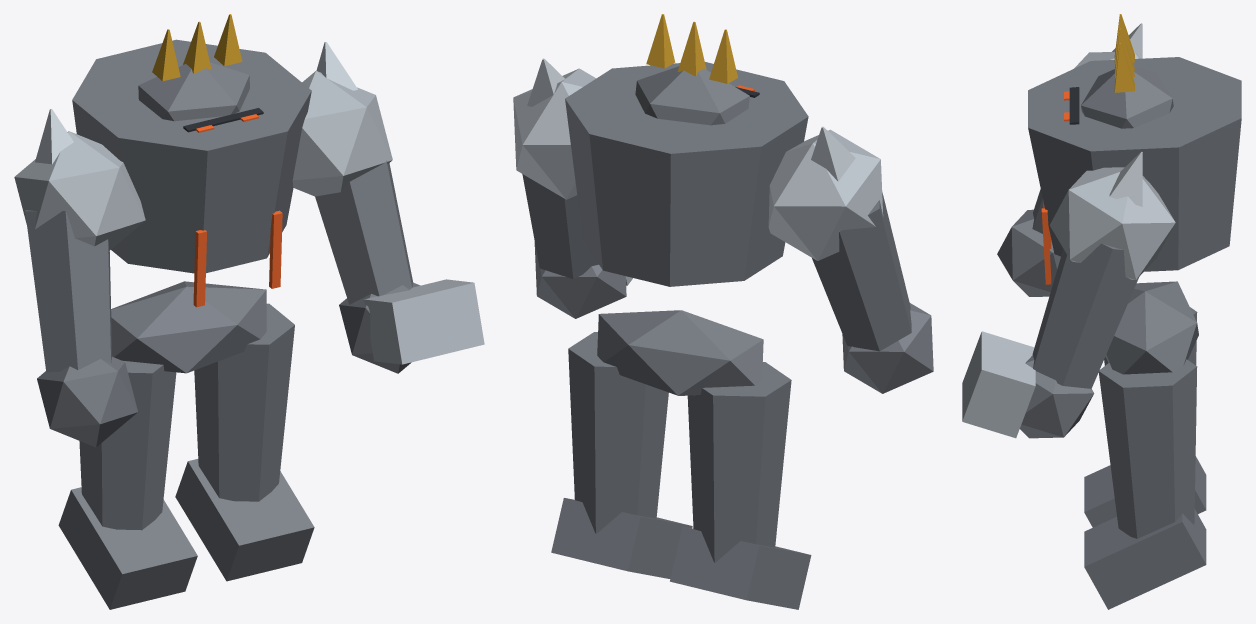
Rendered from npcpose_colossus_attack_11.glb.
3 renders of one model, left to right at view 1: azimuth 30°, elevation 25°; view 2: azimuth 150°, elevation 25°; view 3: azimuth 270°, elevation 25°, orthographic. The views are drawn at different scales.
Parts seen in each view (by area): view 1: npcpose; view 2: npcpose; view 3: npcpose.
Part boxes in pixels (left/top/right/bottom): npcpose: left=14, top=14, right=484, bottom=609; npcpose: left=513, top=14, right=933, bottom=609; npcpose: left=962, top=14, right=1241, bottom=609.
Bounding box in the file's own units: 2.3 × 3.12 × 1.47.
